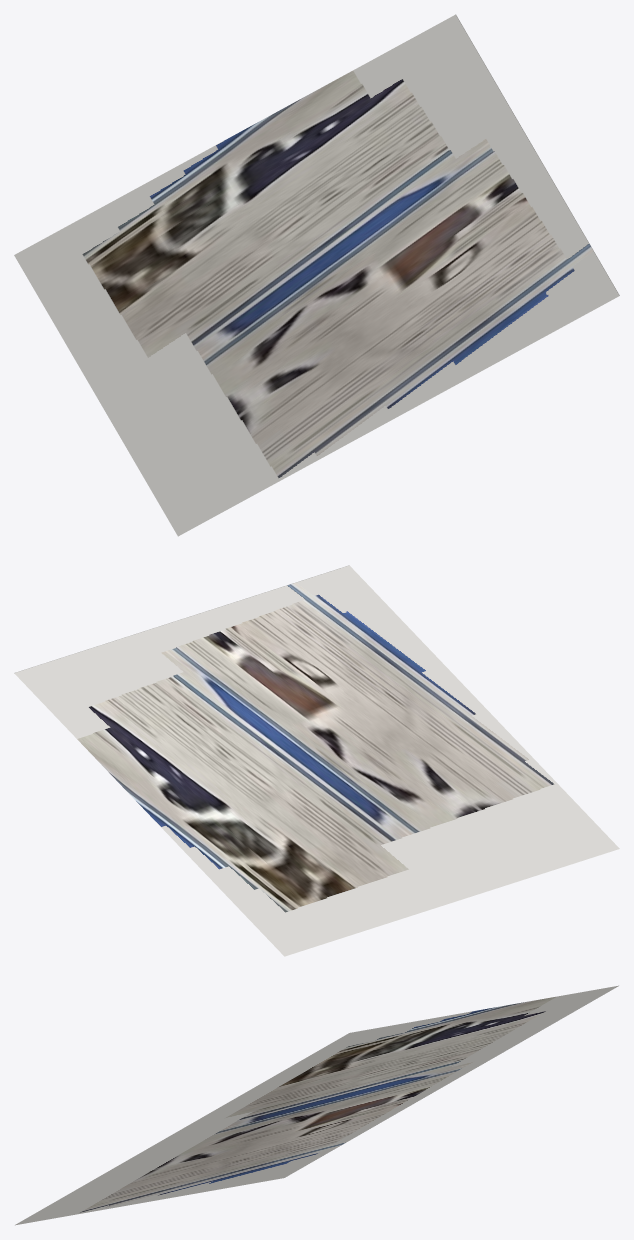
The model's file is entity-sign-10.glb.
3 renders of one model, top to bottom at view 1: azimuth 30°, elevation 25°; view 2: azimuth 150°, elevation 25°; view 3: azimuth 330°, elevation 25°, orthographic. The views are drawn at different scales.
Parts seen in each view (by area): view 1: geometry_0; view 2: geometry_0; view 3: geometry_0.
Boxes of the visible parts, x1,y1,x2,y2 form: geometry_0: (14, 14, 619, 536); geometry_0: (14, 565, 619, 956); geometry_0: (15, 985, 618, 1225).
Bounding box in the file's own units: 0.8757 × 0.4127 × 1.05.
1 material, 1 textured.
